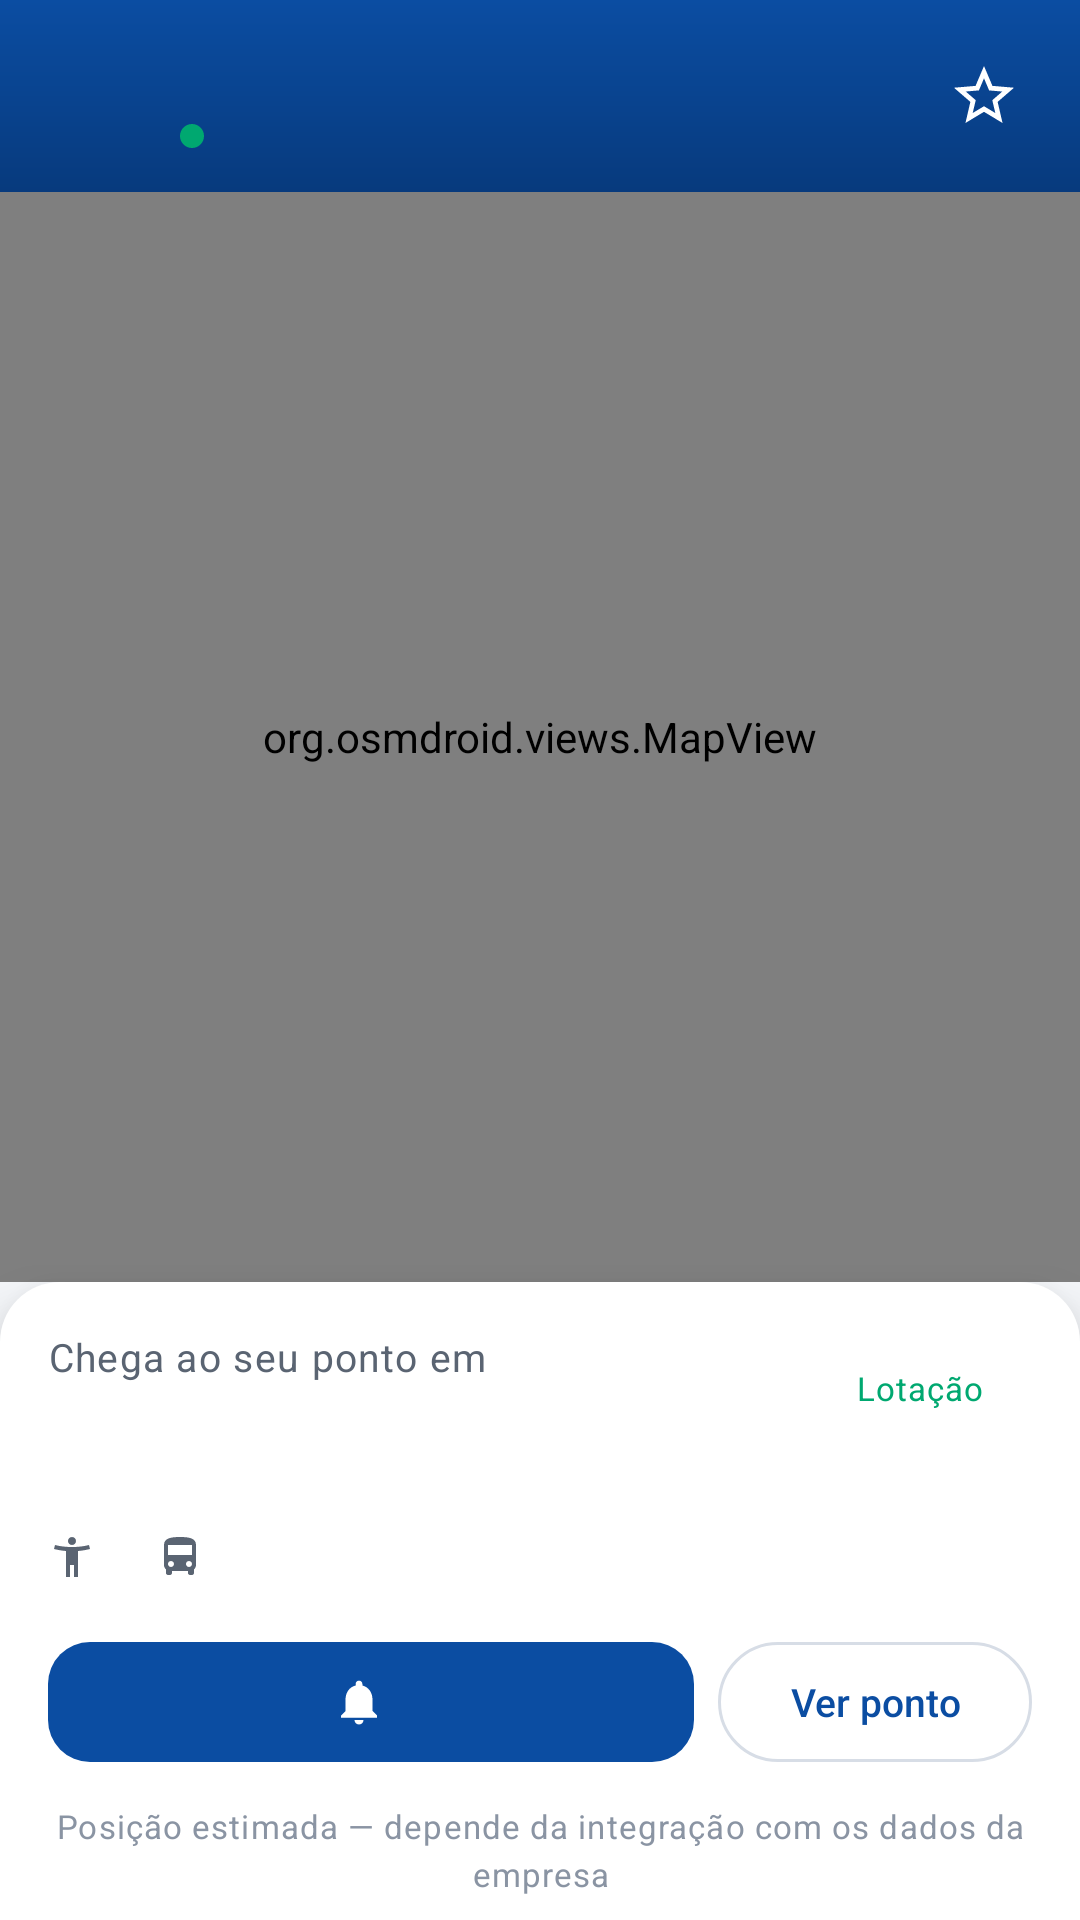

Icons on this 1080 x 1920 Android screen, each with the point to tap as (x,y):
acessivel: (72,1557)
onibus: (180,1556)
